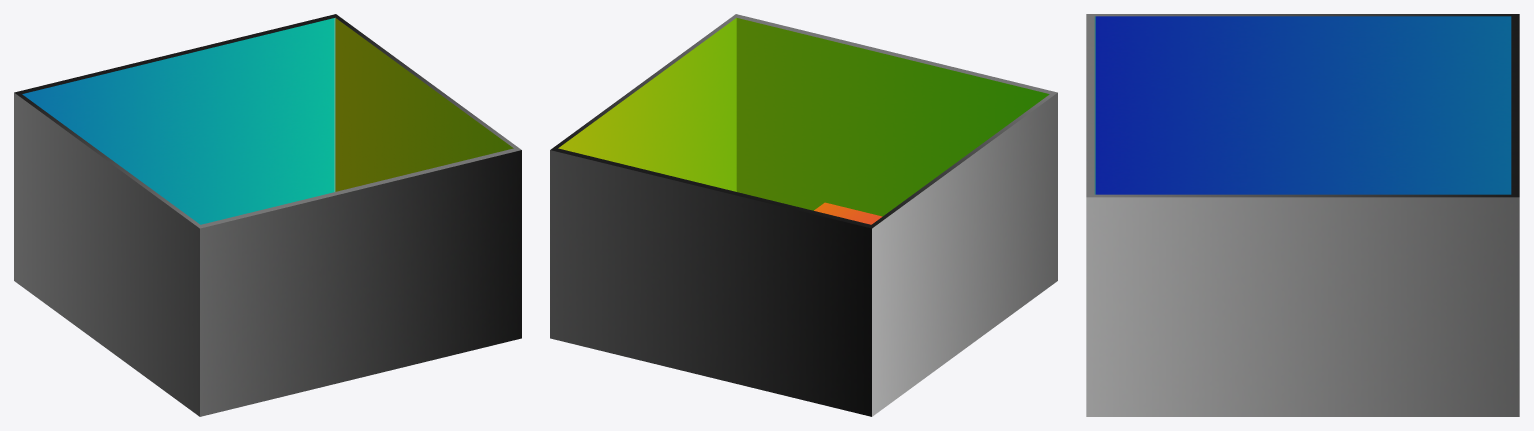
The model's file is my room_obj.fbx.
3 views of the same model, side by side, from view 1: azimuth 30°, elevation 25°; view 2: azimuth 150°, elevation 25°; view 3: azimuth 270°, elevation 25° (orthographic). The views are drawn at different scales.
Parts seen in each view (by area): view 1: Room; view 2: Room, Table_movable; view 3: Room.
Boxes of the visible parts, x1,y1,x2,y2 form: Room: [14, 14, 521, 416]; Room: [550, 14, 1057, 416]; Table_movable: [814, 202, 882, 224]; Room: [1086, 14, 1519, 416].
Bounding box in the file's own units: 6.86 × 3.84 × 6.86.
Materials: 1 (1 with a texture image).
